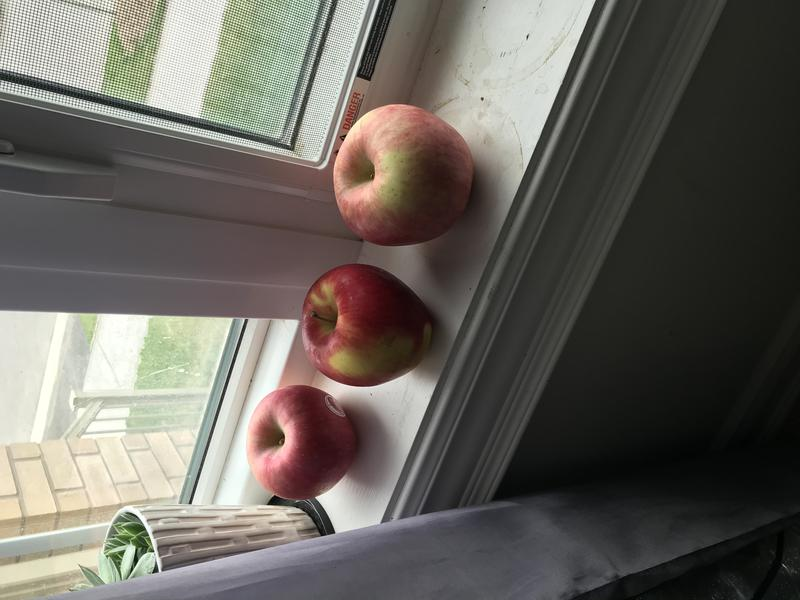red_apple: (320, 100, 486, 253), (294, 261, 446, 394), (238, 379, 363, 508)
